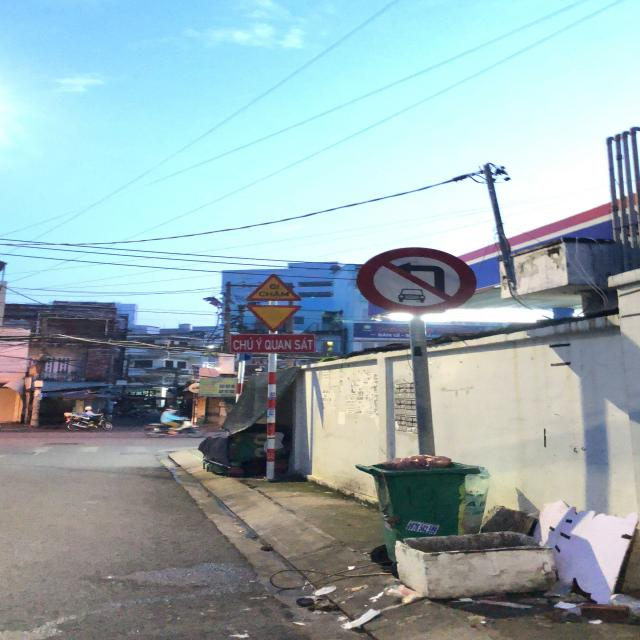Bien bao cam xe o to re trai: (350, 246, 486, 313)
Bien bao di cham: (240, 270, 306, 307)
Bien bao giao nhau voi duong uu tien: (242, 300, 309, 334)
